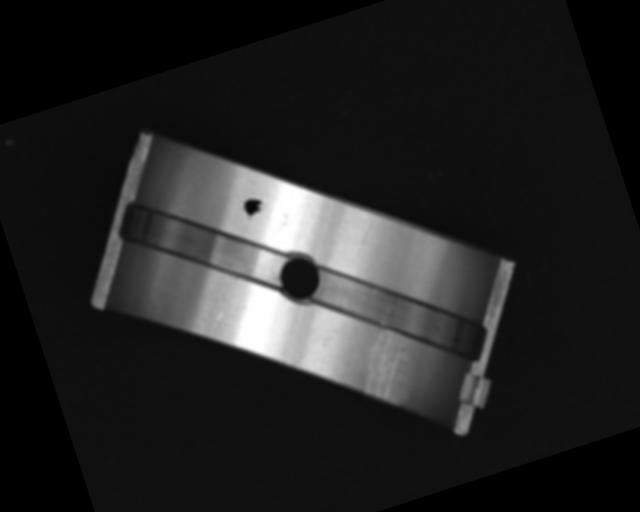blot: (239, 193, 271, 223)
gap: (304, 225, 488, 398), (112, 164, 289, 322)
hole: (272, 250, 325, 306)
nick: (199, 275, 249, 328), (347, 220, 380, 259)
scratch: (349, 324, 424, 410)
